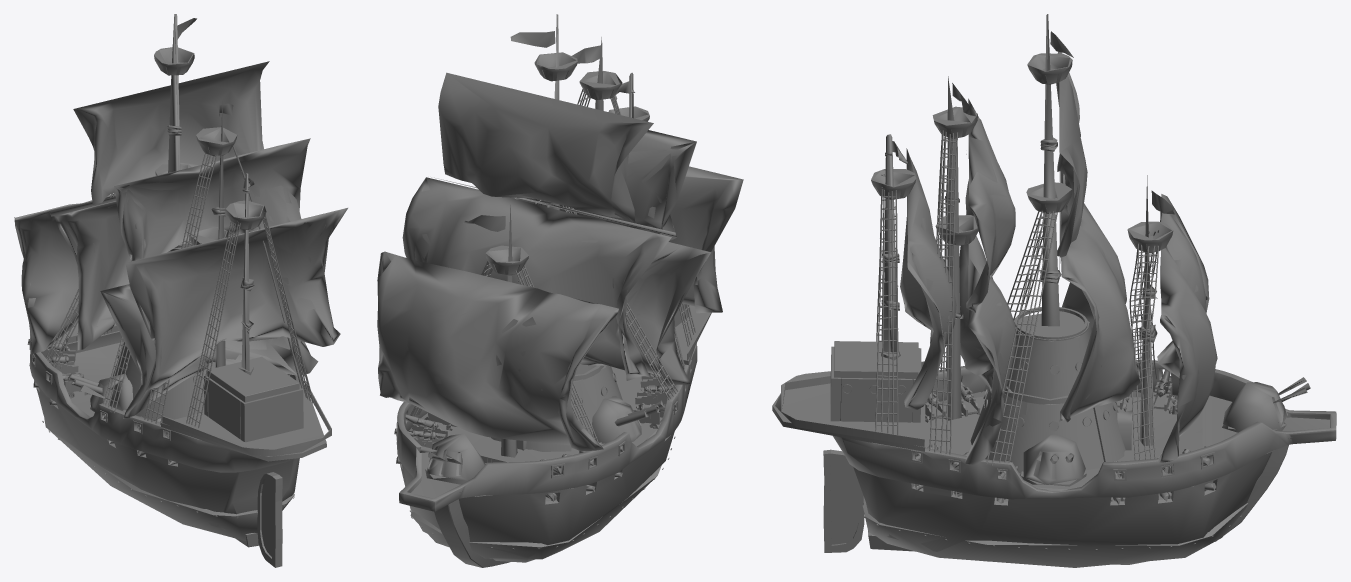
File: navy-galleon-low.glb
3 views of the same model, side by side, from view 1: azimuth 30°, elevation 25°; view 2: azimuth 150°, elevation 25°; view 3: azimuth 270°, elevation 25° (orthographic). The views are drawn at different scales.
Parts seen in each view (by area): view 1: Object_207.005, Object_101.005, Object_79.005, Object_91.005, Object_197.005, Object_113.005, Object_115.005; view 2: Object_207.005, Object_91.005, Object_101.005, Object_79.005, Object_113.005, Object_115.005, Object_197.005; view 3: Object_207.005, Object_101.005, Object_91.005, Object_79.005, Object_197.005, Object_113.005, Object_115.005.
Part boxes in pixels (bbox=[...]): Object_207.005: bbox=[14, 18, 347, 418]; Object_101.005: bbox=[34, 342, 303, 530]; Object_79.005: bbox=[29, 14, 331, 547]; Object_91.005: bbox=[30, 338, 303, 567]; Object_197.005: bbox=[46, 145, 314, 428]; Object_113.005: bbox=[42, 125, 294, 518]; Object_115.005: bbox=[27, 339, 289, 465]; Object_207.005: bbox=[377, 31, 743, 451]; Object_91.005: bbox=[396, 343, 697, 559]; Object_101.005: bbox=[400, 303, 689, 562]; Object_79.005: bbox=[396, 14, 711, 567]; Object_113.005: bbox=[410, 89, 675, 550]; Object_115.005: bbox=[394, 373, 676, 501]; Object_197.005: bbox=[410, 89, 695, 459]; Object_207.005: bbox=[892, 31, 1217, 464]; Object_101.005: bbox=[830, 311, 1271, 564]; Object_91.005: bbox=[823, 307, 1336, 567]; Object_79.005: bbox=[772, 14, 1329, 551]; Object_197.005: bbox=[875, 130, 1158, 465]; Object_113.005: bbox=[864, 137, 1310, 550]; Object_115.005: bbox=[914, 369, 1216, 504].
Bounding box in the file's own units: 38.76 × 73.78 × 70.
Materials: 7 (7 with a texture image).
